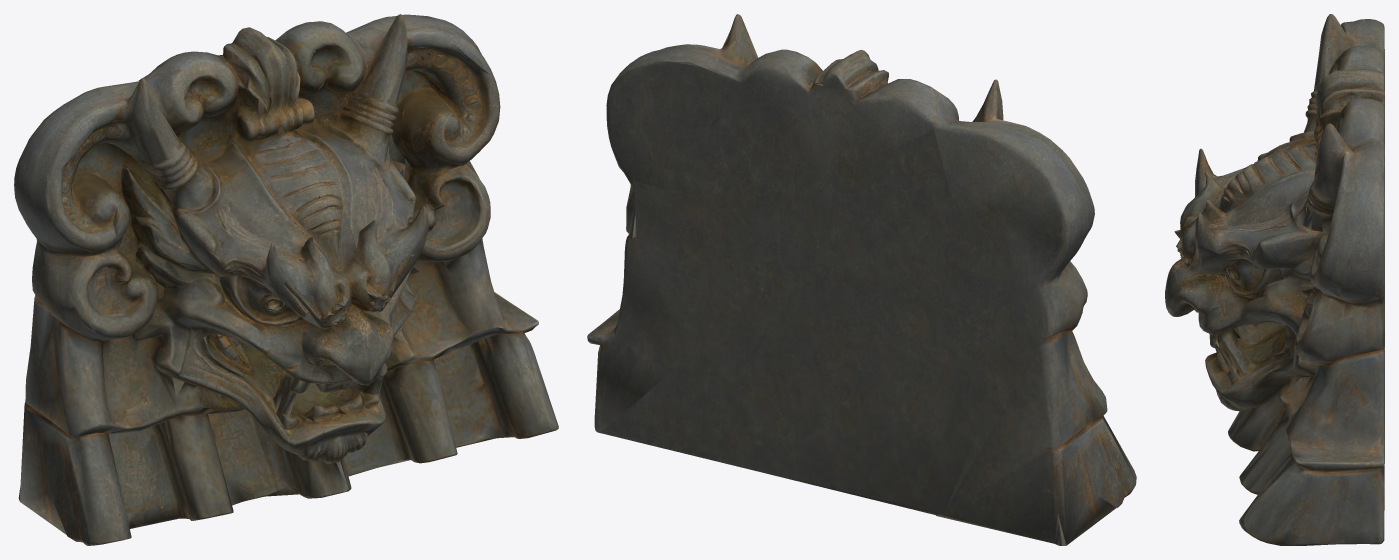
Rendered from onigawara.glb.
3 renders of one model, left to right at view 1: azimuth 30°, elevation 25°; view 2: azimuth 150°, elevation 25°; view 3: azimuth 270°, elevation 25°, orthographic. The views are drawn at different scales.
Visible parts, largest first — view 1: output_unwrapped; view 2: output_unwrapped; view 3: output_unwrapped.
Boxes of the visible parts, x1,y1,x2,y2 form: output_unwrapped: [14, 14, 558, 545]; output_unwrapped: [587, 14, 1136, 545]; output_unwrapped: [1165, 14, 1384, 545].
Size of the model in its own units: 0.6574 by 0.55 by 0.2935.
1 material, 1 textured.
